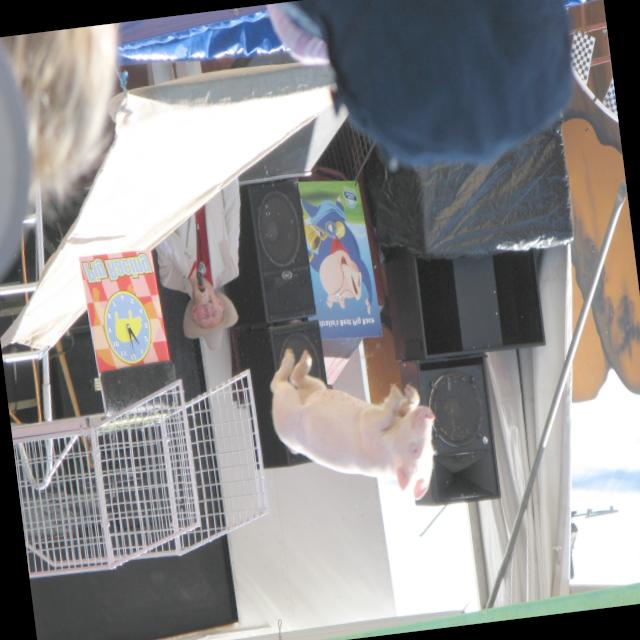pig: (270, 346, 435, 499)
